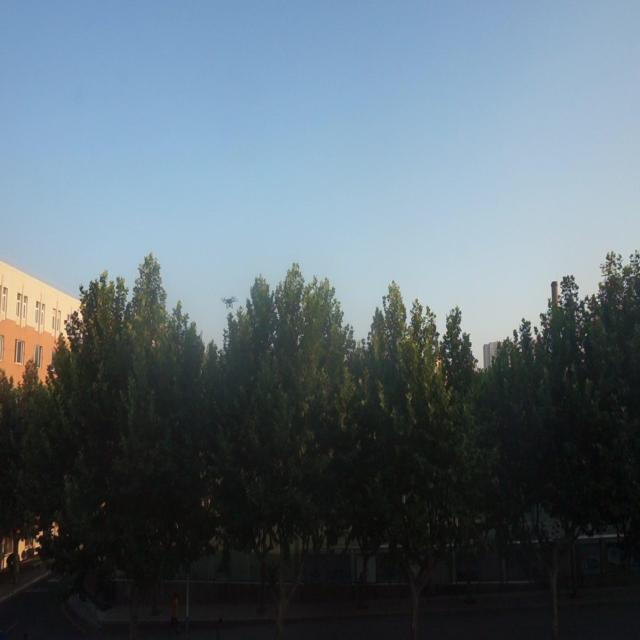drone: (218, 291, 239, 312)
